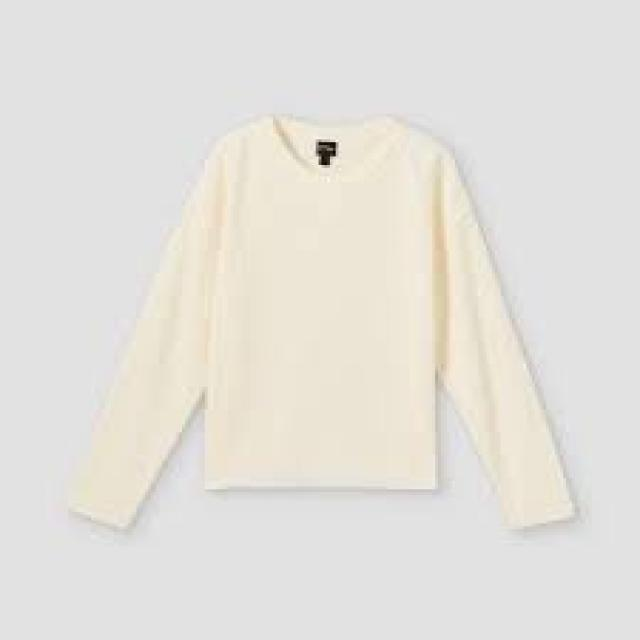plain: (65, 106, 600, 557)
